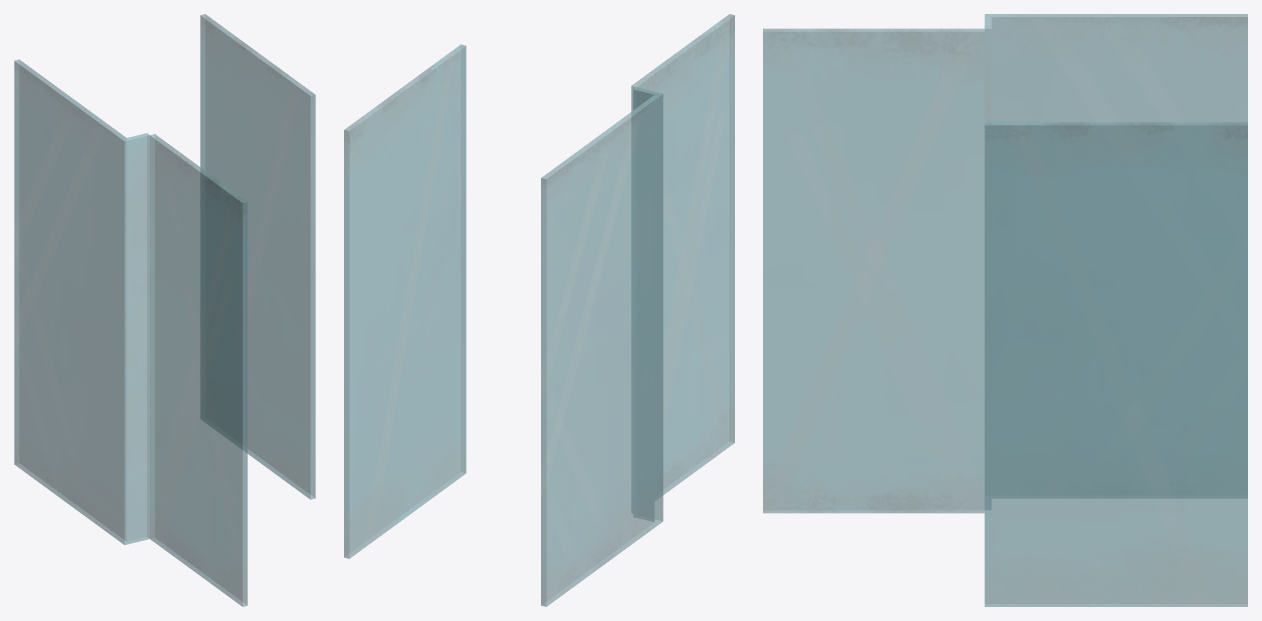
Rendered from shower uv glass part.fbx.
3 views of the same model, side by side, from view 1: azimuth 30°, elevation 25°; view 2: azimuth 150°, elevation 25°; view 3: azimuth 270°, elevation 25° (orthographic). The views are drawn at different scales.
Visible parts, largest first — view 1: p22; view 2: p22; view 3: p22.
Boxes of the visible parts, x1=… form: p22: x1=14, y1=14, x2=315, y2=606; p22: x1=344, y1=14, x2=734, y2=606; p22: x1=763, y1=14, x2=1247, y2=606.
Size of the model in its own units: 2.09 by 4.21 by 3.84.
